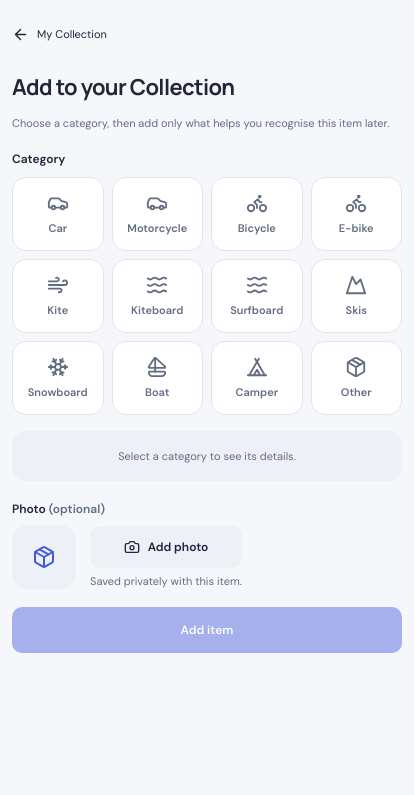
Test: asks for a category first and then shows only that category’s fields
The width and height of the screenshot is (414, 795).
Check: the text "Select a category to see its details." is shown, box top-left (12, 431), bottom-right (402, 481)
Check: the dropdown labelled "Brand" is not shown
Click the button "Bicycle".
click(257, 214)  # box top-left (211, 177), bottom-right (302, 251)
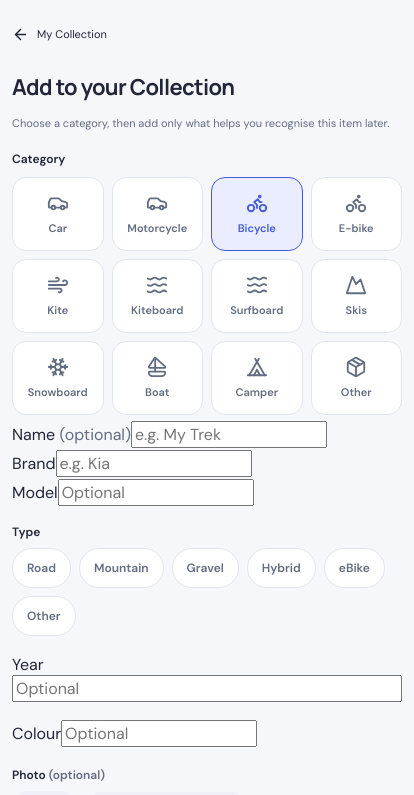
Check: the field labelled "Size" is not shown
Check: the field labelled "Brand" is shown, box top-left (56, 450), bottom-right (252, 477)
Check: the button with aria-label "Type: Gravel" is shown, box top-left (172, 548), bottom-right (239, 588)
Click the button "Kite".
click(58, 296)  # box top-left (12, 259), bottom-right (104, 333)
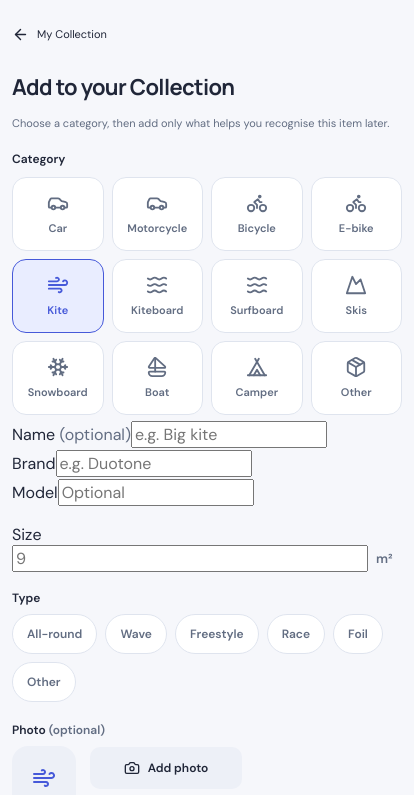
Check: the number field labelled "Size" is shown, box top-left (12, 545), bottom-right (368, 572)
Check: the text "m²" is shown, box top-left (376, 550), bottom-right (393, 567)
Check: the button with aria-label "Type: Wave" is shown, box top-left (105, 614), bottom-right (167, 654)
